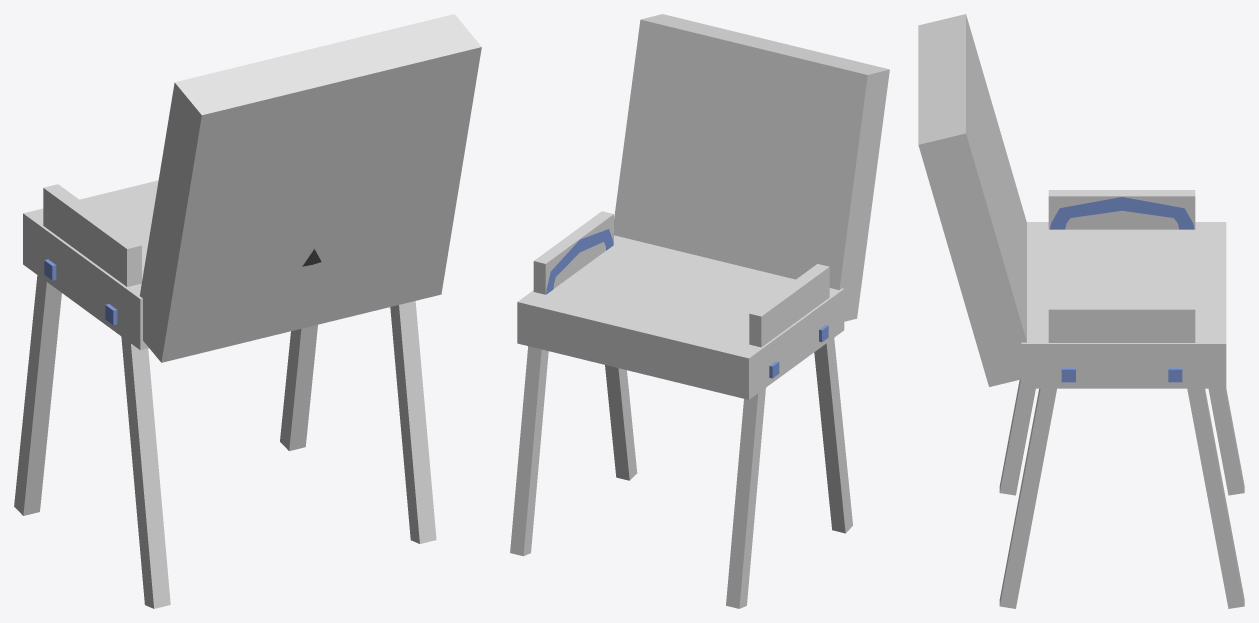
The model's file is chair1.fbx.
3 renders of one model, left to right at view 1: azimuth 30°, elevation 25°; view 2: azimuth 150°, elevation 25°; view 3: azimuth 270°, elevation 25°, orthographic. The views are drawn at different scales.
Visible parts, largest first — view 1: Cube.001, Cube, Cube.007, Cube.006, Cube.002, Cube.009, Cube.003, chair1; view 2: Cube.001, Cube, Cube.002, Cube.003, Cube.007, Cube.009, Cube.008, Cube.006, chair1; view 3: Cube, Cube.001, Cube.008, Cube.006, Cube.003, Cube.009, chair1, Cube.007, Cube.002.
Boxes of the visible parts, x1,y1,x2,y2 form: Cube.001: [139, 14, 481, 362]; Cube: [23, 180, 158, 350]; Cube.007: [121, 336, 170, 608]; Cube.006: [390, 301, 436, 543]; Cube.002: [14, 275, 61, 515]; Cube.009: [43, 184, 141, 286]; Cube.003: [280, 324, 317, 450]; chair1: [44, 249, 321, 325]; Cube.001: [614, 14, 889, 321]; Cube: [517, 235, 844, 399]; Cube.002: [726, 388, 765, 608]; Cube.003: [510, 346, 548, 556]; Cube.007: [814, 338, 852, 533]; Cube.009: [749, 264, 829, 347]; Cube.008: [533, 211, 613, 294]; Cube.006: [605, 365, 637, 480]; chair1: [546, 229, 828, 378]; Cube: [1021, 222, 1226, 388]; Cube.001: [918, 14, 1026, 386]; Cube.008: [1048, 303, 1195, 342]; Cube.006: [999, 388, 1056, 608]; Cube.003: [1187, 388, 1244, 608]; Cube.009: [1048, 190, 1195, 229]; chair1: [1050, 197, 1194, 382]; Cube.007: [999, 379, 1035, 495]; Cube.002: [1208, 388, 1244, 495].
Size of the model in its own units: 0.6272 by 1.11 by 0.6917.
